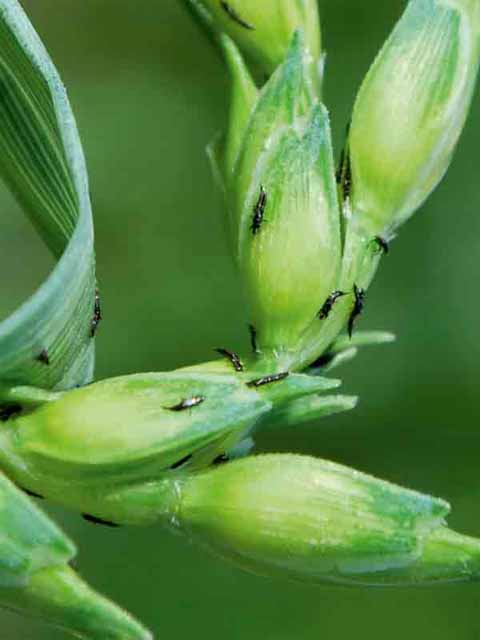Phlaeothripidae: (345, 285, 369, 340), (163, 390, 210, 414), (316, 286, 349, 320), (247, 183, 267, 238), (243, 370, 294, 390), (207, 343, 241, 373), (84, 293, 104, 340), (249, 320, 264, 353)
